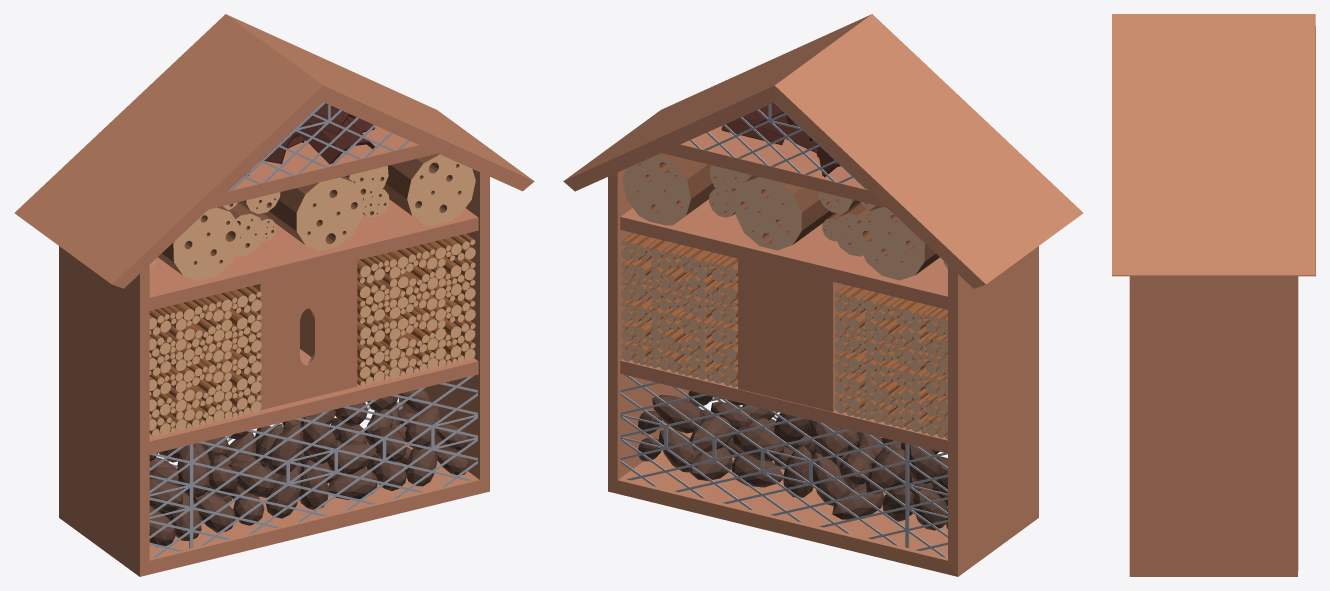
Rendered from mod_bg_HotelAInsecte.fbx.
3 renders of one model, left to right at view 1: azimuth 30°, elevation 25°; view 2: azimuth 150°, elevation 25°; view 3: azimuth 270°, elevation 25°, orthographic. The views are drawn at different scales.
Visible parts, largest first — view 1: HotelAInsecte; view 2: HotelAInsecte; view 3: HotelAInsecte.
Boxes of the visible parts, x1,y1,x2,y2 form: HotelAInsecte: [14, 14, 534, 576]; HotelAInsecte: [563, 14, 1083, 576]; HotelAInsecte: [1112, 14, 1315, 576].
Bounding box in the file's own units: 78.42 × 80.62 × 31.44.
